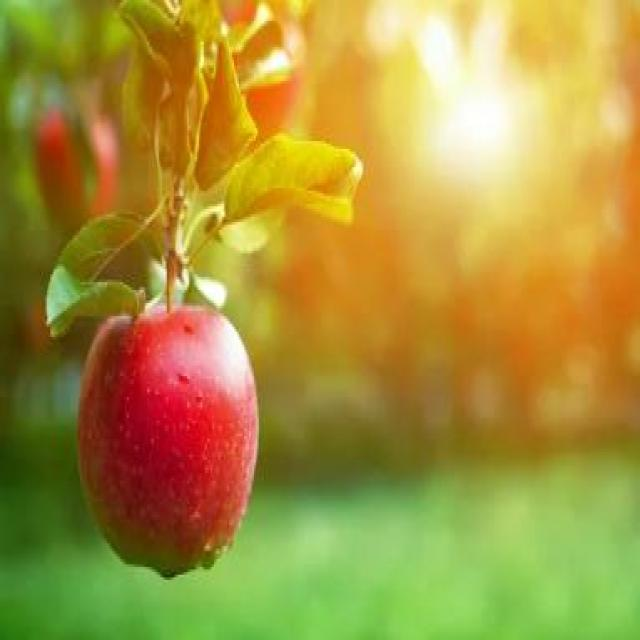fruit: (72, 301, 268, 594)
